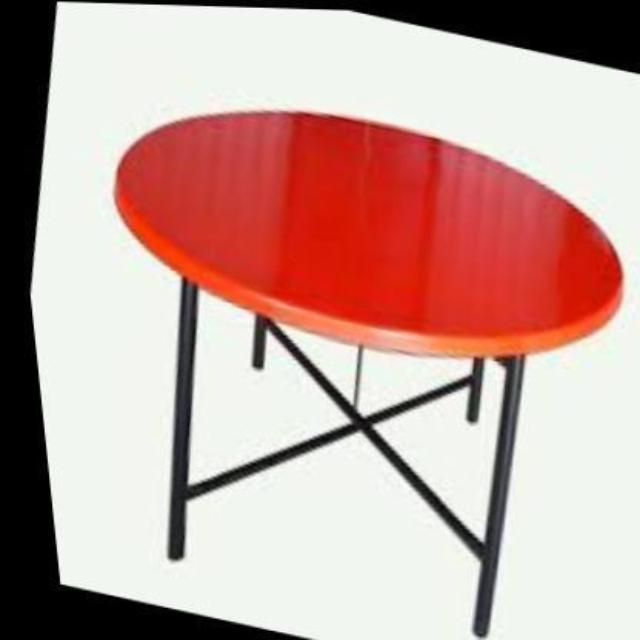table: (120, 115, 613, 600)
